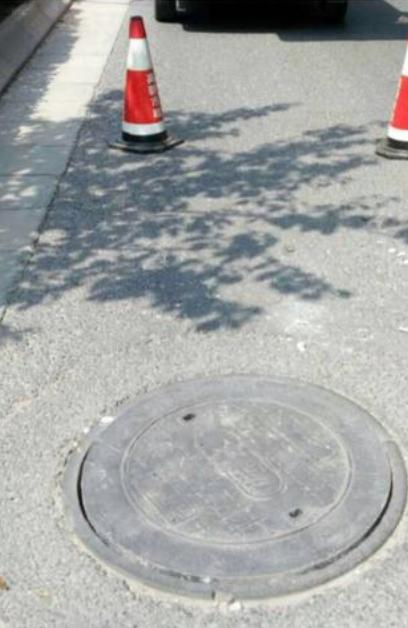good: (51, 367, 407, 603)
